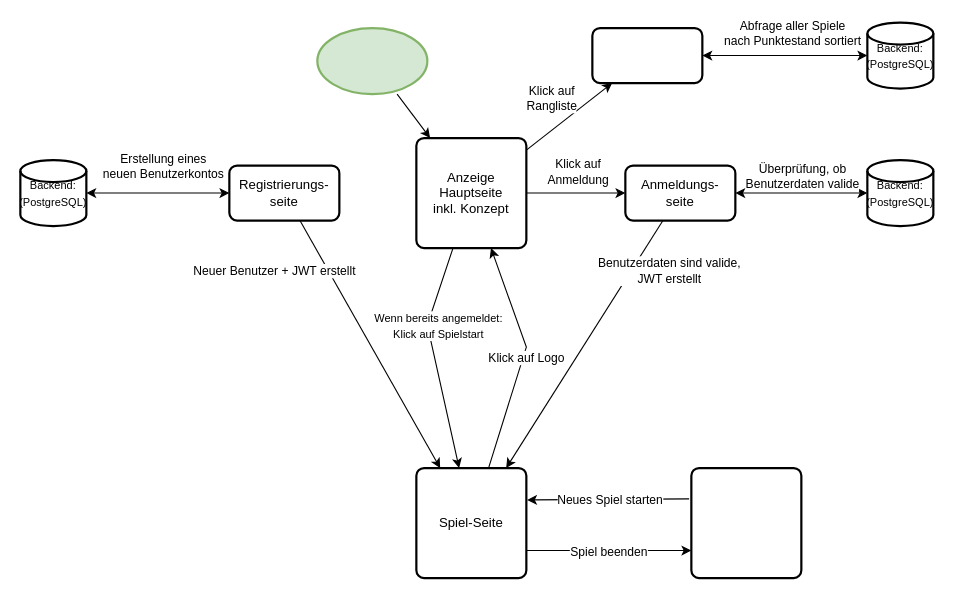
Image size: 953x598. Some labels were removed from this diagram. Each missing label, with the centre of its shape:
Nutzer besucht Webseite: (372,60)
Ranglisten- seite: (647,55)
Spiel-Punkteanzeige: (746,522)
